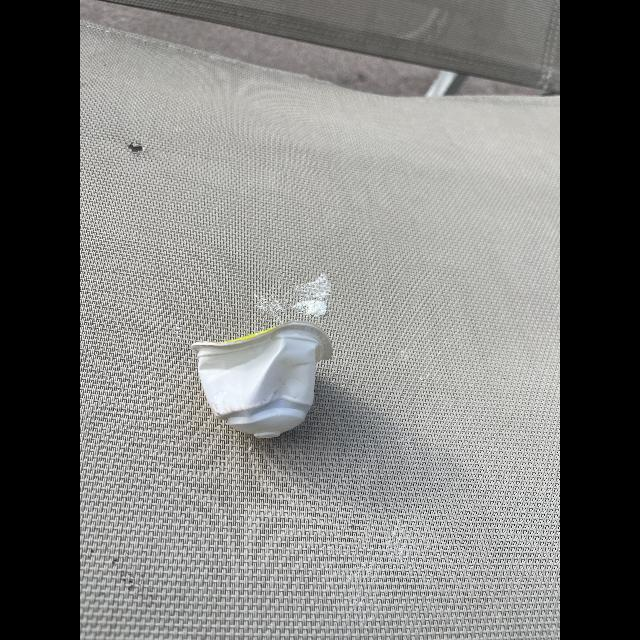damaged_capsule: (188, 318, 338, 444)
